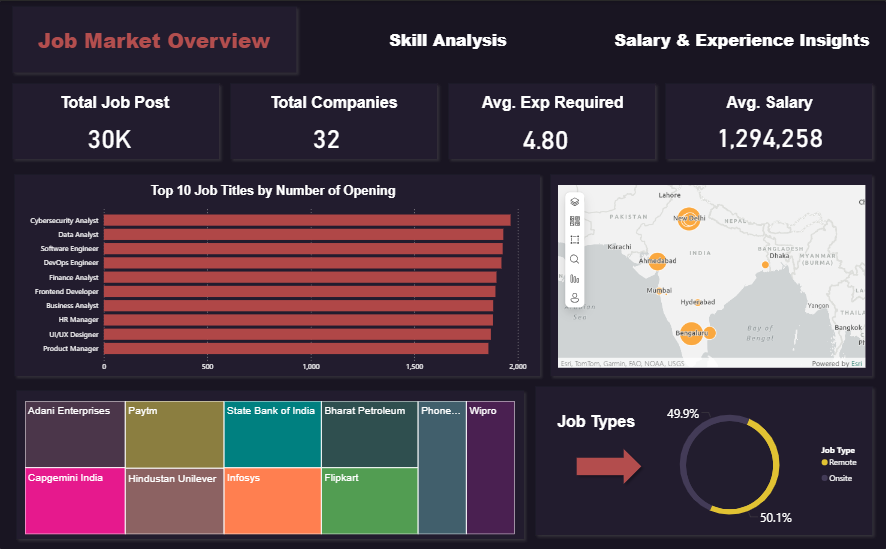

The dashboard page shown, as its layout file describes it:
{"tool":"powerbi","page":{"name":"Job Market Overview","canvas":[1480,920],"ordinal":0},"visuals":[{"type":"shape","box":[13.4,3.3,491.8,128.8],"z":0},{"type":"shape","box":[376.4,131.9,363,144],"z":0,"group":"g1"},{"type":"pageNavigator","box":[18,18,1462,98],"z":1000},{"type":"shape","box":[739.4,131.9,363,144],"z":1000,"group":"g1"},{"type":"shape","box":[1102.4,131.9,363,144],"z":2000,"group":"g1"},{"type":"shape","box":[16.4,283.1,894,354],"z":2000},{"type":"textbox","box":[400.8,144.5,315.8,56.8],"z":3000,"group":"g1"},{"type":"clusteredBarChart","fields":{"Category":["Job_Market_corrected.Job_Role"],"Y":["CountNonNull(Job_Market_corrected.Job_Role)"]},"box":[36.4,337.1,848,294],"z":3000},{"type":"textbox","box":[765,144.5,315.8,56.8],"z":4000,"group":"g1"},{"type":"textbox","box":[27.8,294.2,856.8,44.2],"z":4000},{"type":"textbox","box":[1127.1,144.5,315.8,56.8],"z":5000,"group":"g1"},{"type":"shape","box":[884.4,637.1,580,266],"z":5000},{"type":"shape","box":[13.4,131.9,363,144],"z":6000,"group":"g1"},{"type":"shape","box":[910.4,283.1,554,354],"z":6000},{"type":"textbox","box":[38.7,144.5,315.8,58.9],"z":7000,"group":"g1"},{"type":"textbox","box":[909.9,677.4,170.5,63.2],"z":7000},{"type":"card","fields":{"Values":["Job_Market_corrected.Total Job Posts"]},"box":[116.6,197.2,134.7,63.2],"z":8000,"group":"g1"},{"type":"shape","box":[20.4,643.1,864,266],"z":8000},{"type":"card","fields":{"Values":["Job_Market_corrected.Total Companies"]},"box":[478.7,197.2,134.7,63.2],"z":9000,"group":"g1"},{"type":"esriVisual","fields":{"Location":["Job_Market_corrected.City"],"Size":["CountNonNull(Job_Market_corrected.Job_Role)"]},"box":[926.4,305.1,522,314],"z":9000},{"type":"card","fields":{"Values":["Job_Market_corrected.Avg Experience Required"]},"box":[842.9,199.3,134.7,63.2],"z":10000,"group":"g1"},{"type":"treemap","fields":{"Group":["Job_Market_corrected.Company_Name"],"Values":["CountNonNull(Job_Market_corrected.Job_Role)"]},"box":[38.4,665.1,826,232],"z":10000},{"type":"card","fields":{"Values":["Job_Market_corrected.Avg Salary Offered"]},"box":[1127.1,195.1,315.8,63.2],"z":11000,"group":"g1"},{"type":"donutChart","fields":{"Category":["Job_Market_corrected.Job_Type"],"Y":["CountNonNull(Job_Market_corrected.Job_Type)"]},"box":[1059.3,654.2,389.5,242.1],"z":11000},{"type":"group","id":"g1","title":"Group 1","box":[13.4,131.9,1452,144],"z":12000},{"type":"shape","box":[954.1,740.5,126.3,77.9],"z":13000},{"type":"shape","box":[1145.7,702.6,145.3,147.4],"z":14000}]}

Visuals, with their boxes in screenshot pixels (x1, y1, x2, y2), scaled from the page's 1480x920 canvas onto the 886x549 screenshot:
shape: {"left": 8, "top": 2, "right": 302, "bottom": 79}
shape: {"left": 225, "top": 79, "right": 443, "bottom": 165}
pageNavigator: {"left": 11, "top": 11, "right": 885, "bottom": 69}
shape: {"left": 443, "top": 79, "right": 660, "bottom": 165}
shape: {"left": 660, "top": 79, "right": 877, "bottom": 165}
shape: {"left": 10, "top": 169, "right": 545, "bottom": 380}
textbox: {"left": 240, "top": 86, "right": 429, "bottom": 120}
clusteredBarChart - Job_Market_corrected.Job_Role x CountNonNull(Job_Market_corrected.Job_Role): {"left": 22, "top": 201, "right": 529, "bottom": 377}
textbox: {"left": 458, "top": 86, "right": 647, "bottom": 120}
textbox: {"left": 17, "top": 176, "right": 530, "bottom": 202}
textbox: {"left": 675, "top": 86, "right": 864, "bottom": 120}
shape: {"left": 529, "top": 380, "right": 877, "bottom": 539}
shape: {"left": 8, "top": 79, "right": 225, "bottom": 165}
shape: {"left": 545, "top": 169, "right": 877, "bottom": 380}
textbox: {"left": 23, "top": 86, "right": 212, "bottom": 121}
textbox: {"left": 545, "top": 404, "right": 647, "bottom": 442}
card - Job_Market_corrected.Total Job Posts: {"left": 70, "top": 118, "right": 150, "bottom": 155}
shape: {"left": 12, "top": 384, "right": 529, "bottom": 542}
card - Job_Market_corrected.Total Companies: {"left": 287, "top": 118, "right": 367, "bottom": 155}
esriVisual - Job_Market_corrected.City x CountNonNull(Job_Market_corrected.Job_Role): {"left": 555, "top": 182, "right": 867, "bottom": 369}
card - Job_Market_corrected.Avg Experience Required: {"left": 505, "top": 119, "right": 585, "bottom": 157}
treemap - Job_Market_corrected.Company_Name x CountNonNull(Job_Market_corrected.Job_Role): {"left": 23, "top": 397, "right": 517, "bottom": 535}
card - Job_Market_corrected.Avg Salary Offered: {"left": 675, "top": 116, "right": 864, "bottom": 154}
donutChart - Job_Market_corrected.Job_Type x CountNonNull(Job_Market_corrected.Job_Type): {"left": 634, "top": 390, "right": 867, "bottom": 535}
"Group 1" group: {"left": 8, "top": 79, "right": 877, "bottom": 165}
shape: {"left": 571, "top": 442, "right": 647, "bottom": 488}
shape: {"left": 686, "top": 419, "right": 773, "bottom": 507}
